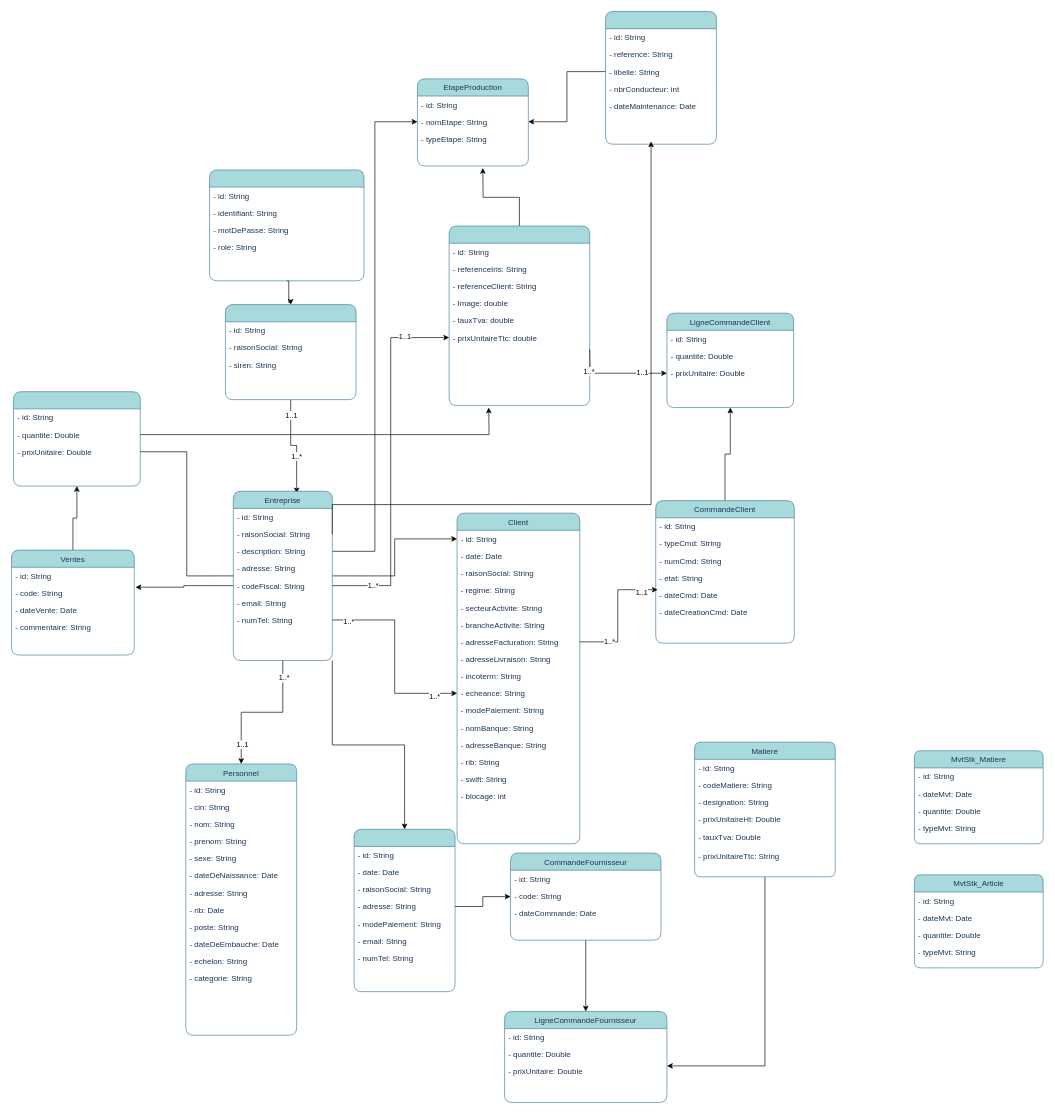
Some shapes in this 1055 by 1114 pixel diagram are drawn without their labels. Here are the shapes that lost their labels. From the top down, the box of each, then its label:
(605, 11, 716, 144): Machine
(209, 169, 364, 281): Utilisateur
(448, 225, 590, 406): Article
(225, 304, 356, 400): Comptes
(13, 391, 140, 486): LigneVente
(353, 829, 455, 992): Fournisseur
